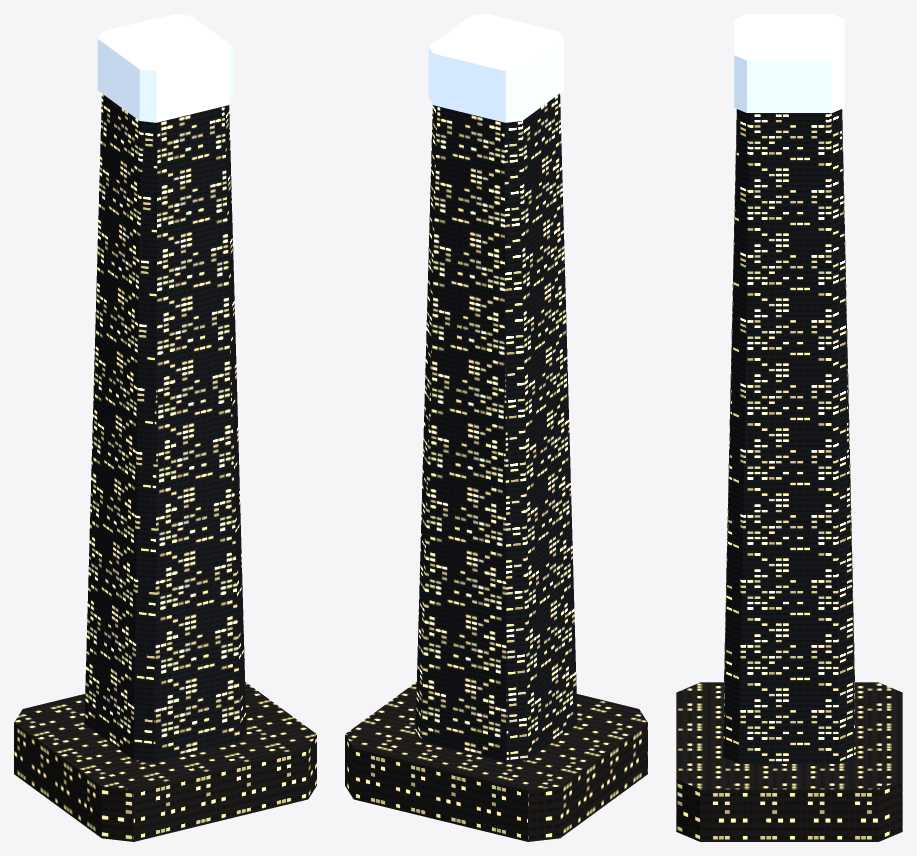
File: uob-plaza.glb
3 views of the same model, side by side, from view 1: azimuth 30°, elevation 25°; view 2: azimuth 150°, elevation 25°; view 3: azimuth 270°, elevation 25° (orthographic).
Visible parts, largest first — view 1: shaft, podium, crown; view 2: shaft, podium, crown; view 3: shaft, podium, crown.
Part boxes in pixels (x1,y1,x2,y2): shaft: (84, 93, 246, 762); podium: (14, 682, 316, 841); crown: (97, 14, 233, 122); shaft: (415, 93, 577, 762); podium: (345, 682, 647, 841); crown: (428, 14, 564, 122); shaft: (723, 109, 855, 763); podium: (676, 682, 902, 841); crown: (734, 14, 844, 112).
Bounding box in the file's own units: 85.5 × 280 × 76.5.
3 materials, 2 textured.
